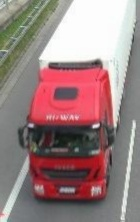truck: (18, 0, 137, 203)
